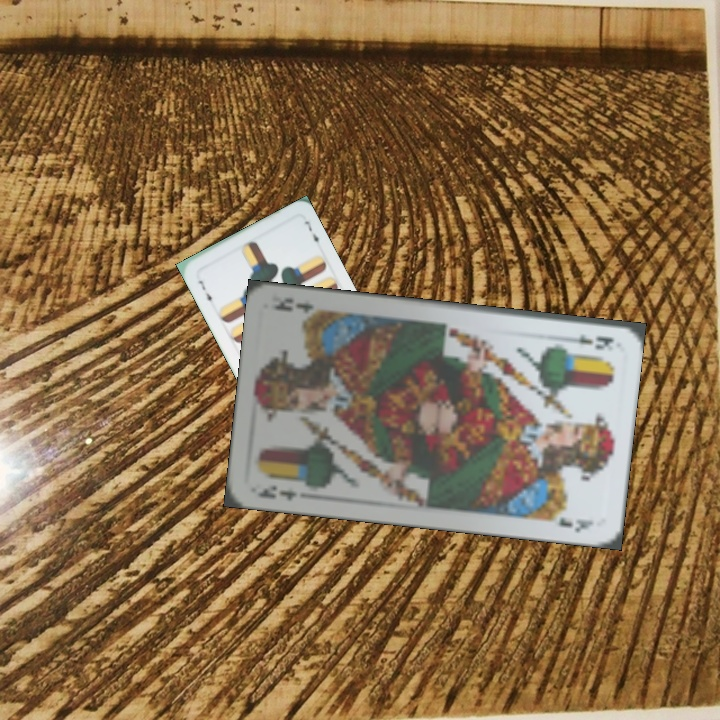E7: (194, 276, 214, 308)
EK: (558, 329, 617, 353), (253, 481, 300, 503)
